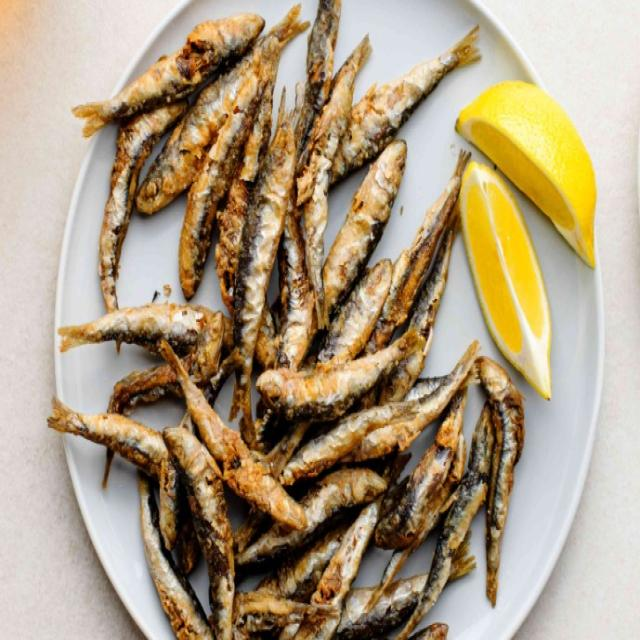FISH FRY: (50, 9, 539, 638)
